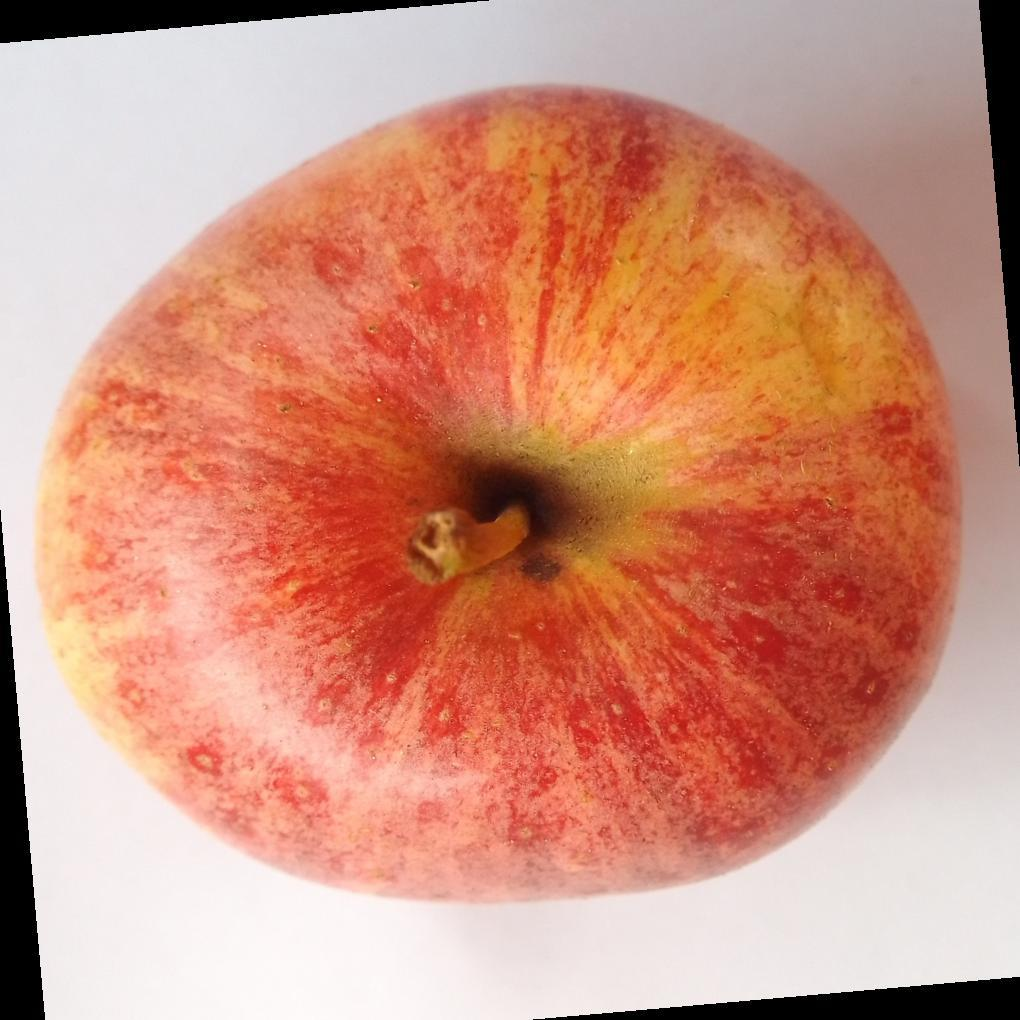FreshGuava: (28, 84, 966, 910)
